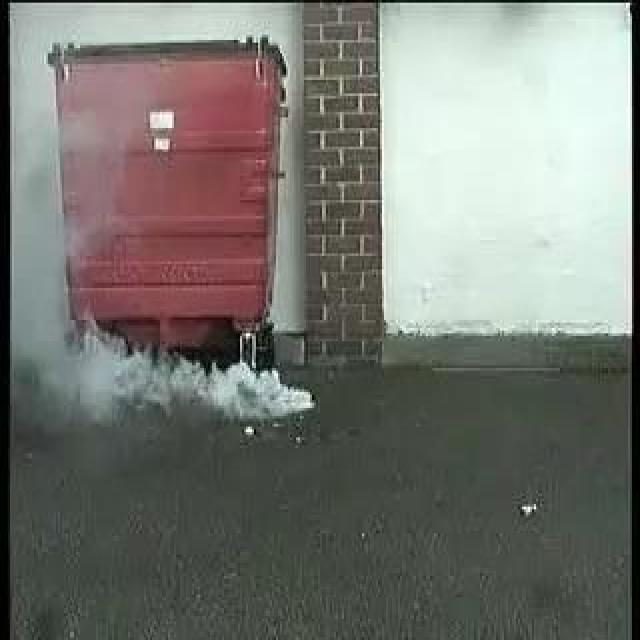Smoke: (46, 332, 314, 428)
